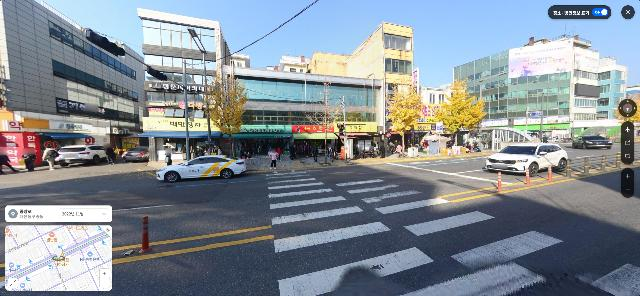ginkgo: (200, 62, 249, 156), (432, 78, 487, 149), (307, 75, 344, 166), (386, 86, 427, 159)
